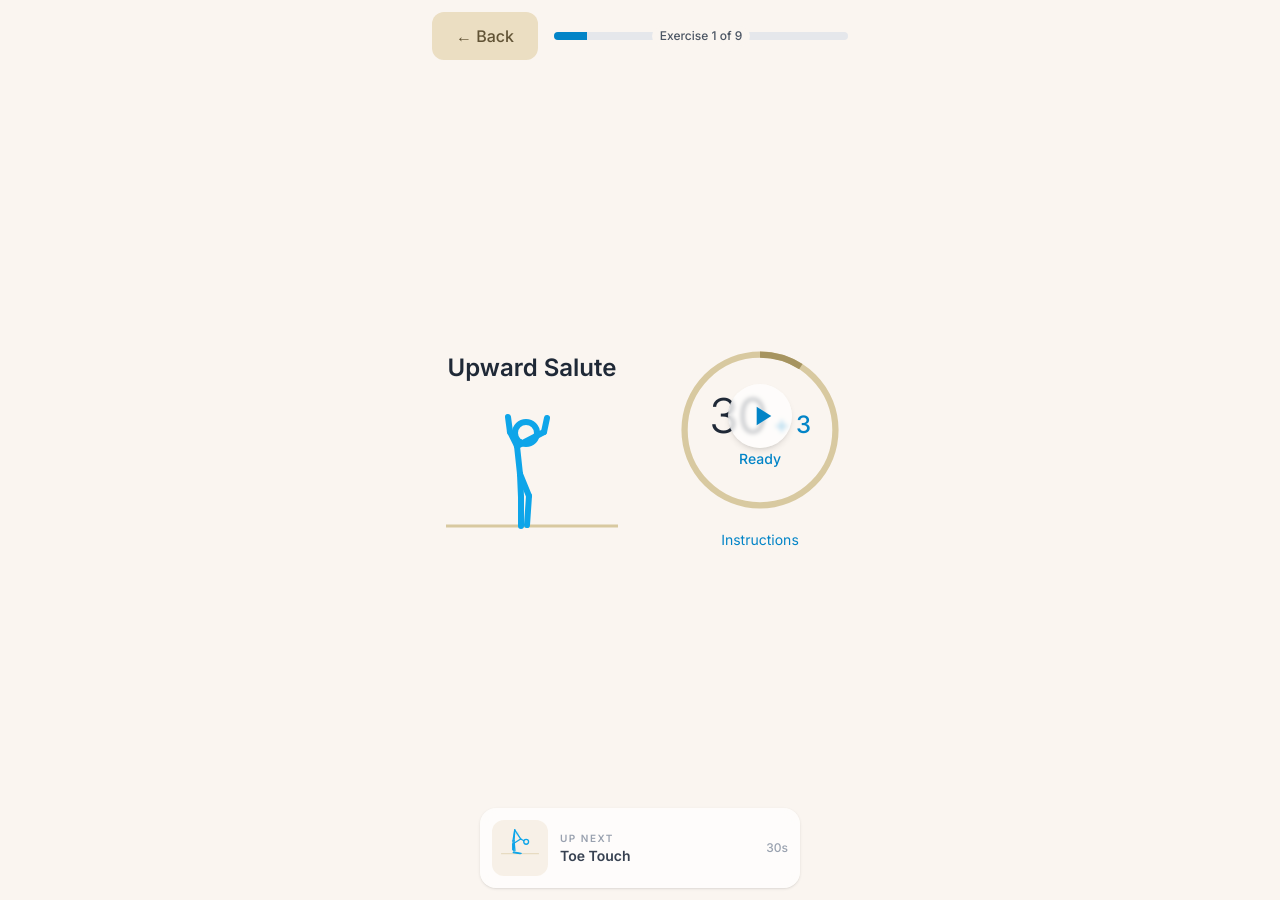
it: Session (scrollable feed) › shows exercise details in the instructions overlay
The width and height of the screenshot is (1280, 900).
Click the button "Instructions": click(760, 540) [721,530,799,550]
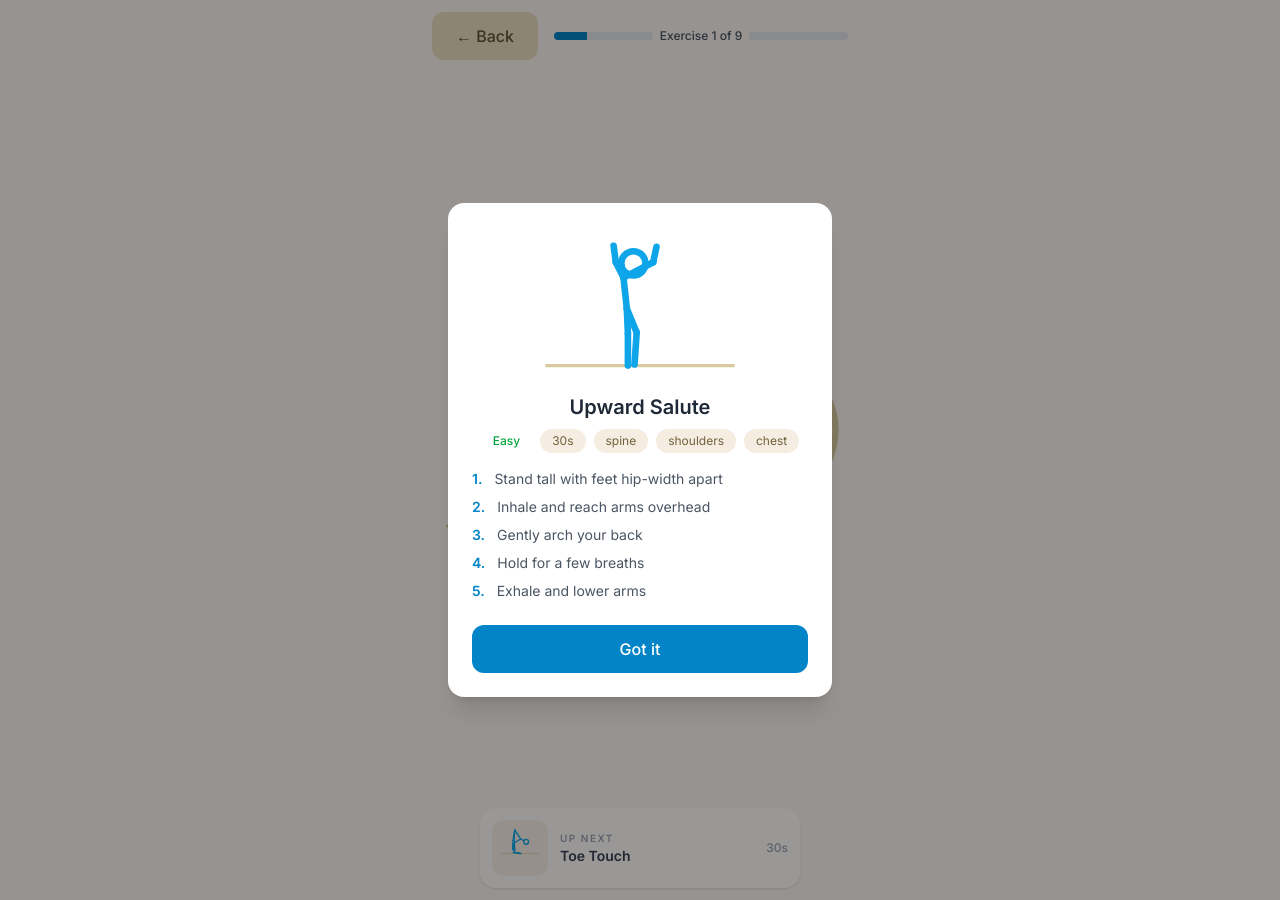
Check: the text "Stand tall with feet hip-width apart" is shown, box [494,469,723,489]
Check: the text "Easy" is shown, box [493,433,520,448]
Check: the text "30s" is shown, box [540,429,586,453]
